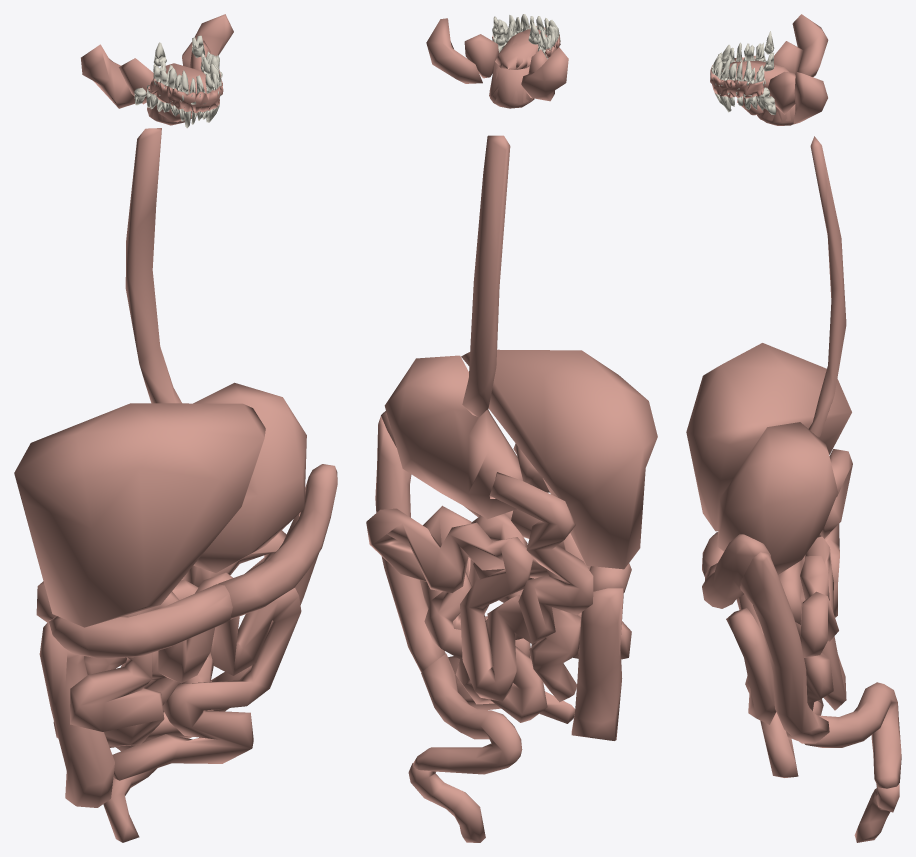
Rendered from pediatric_adolescent_male.digestive.LOD3.glb.
The picture shows the model from 3 angles, left to right: view 1: azimuth 30°, elevation 25°; view 2: azimuth 150°, elevation 25°; view 3: azimuth 270°, elevation 25°; orthographic projection. The views are drawn at different scales.
Parts seen in each view (by area): view 1: PEDIATRIC.ADOLESCENT.MALE.DIGESTIVE.LIVER, PEDIATRIC.ADOLESCENT.MALE.DIGESTIVE.SMALL_INTESTINE_WALL, PEDIATRIC.ADOLESCENT.MALE.DIGESTIVE.STOMACH_WALL, PEDIATRIC.ADOLESCENT.MALE.DIGESTIVE.OESOPHAGUS_WALL, PEDIATRIC.ADOLESCENT.MALE.DIGESTIVE.TRANSVERSE_COLON_WALL.R, PEDIATRIC.ADOLESCENT.MALE.DIGESTIVE.ASCENDING_COLON_WALL, PEDIATRIC.ADOLESCENT.MALE.DIGESTIVE.TRANSVERSE_COLON_WALL.L, PEDIATRIC.ADOLESCENT.MALE.DIGESTIVE.SALIVARY_GLANDS.R, PEDIATRIC.ADOLESCENT.MALE.DIGESTIVE.PERMANENT_CEMENTUM, PEDIATRIC.ADOLESCENT.MALE.DIGESTIVE.RECTUM_WALL, PEDIATRIC.ADOLESCENT.MALE.DIGESTIVE.SALIVARY_GLANDS.L, PEDIATRIC.ADOLESCENT.MALE.DIGESTIVE.ORAL_MUCOSA_LIP_AND_CHEE (+1 smaller); view 2: PEDIATRIC.ADOLESCENT.MALE.DIGESTIVE.SMALL_INTESTINE_WALL, PEDIATRIC.ADOLESCENT.MALE.DIGESTIVE.LIVER, PEDIATRIC.ADOLESCENT.MALE.DIGESTIVE.STOMACH_WALL, PEDIATRIC.ADOLESCENT.MALE.DIGESTIVE.OESOPHAGUS_WALL, PEDIATRIC.ADOLESCENT.MALE.DIGESTIVE.ASCENDING_COLON_WALL, PEDIATRIC.ADOLESCENT.MALE.DIGESTIVE.SIGMOID_COLON_WALL, PEDIATRIC.ADOLESCENT.MALE.DIGESTIVE.DESCENDING_COLON_WALL, PEDIATRIC.ADOLESCENT.MALE.DIGESTIVE.SALIVARY_GLANDS.L, PEDIATRIC.ADOLESCENT.MALE.DIGESTIVE.RECTUM_WALL, PEDIATRIC.ADOLESCENT.MALE.DIGESTIVE.SALIVARY_GLANDS.R, PEDIATRIC.ADOLESCENT.MALE.DIGESTIVE.TRANSVERSE_COLON_WALL.R, PEDIATRIC.ADOLESCENT.MALE.DIGESTIVE.TONGUE_LOWER (+3 smaller); view 3: PEDIATRIC.ADOLESCENT.MALE.DIGESTIVE.LIVER, PEDIATRIC.ADOLESCENT.MALE.DIGESTIVE.SMALL_INTESTINE_WALL, PEDIATRIC.ADOLESCENT.MALE.DIGESTIVE.STOMACH_WALL, PEDIATRIC.ADOLESCENT.MALE.DIGESTIVE.DESCENDING_COLON_WALL, PEDIATRIC.ADOLESCENT.MALE.DIGESTIVE.SIGMOID_COLON_WALL, PEDIATRIC.ADOLESCENT.MALE.DIGESTIVE.OESOPHAGUS_WALL, PEDIATRIC.ADOLESCENT.MALE.DIGESTIVE.TRANSVERSE_COLON_WALL.L, PEDIATRIC.ADOLESCENT.MALE.DIGESTIVE.SALIVARY_GLANDS.L, PEDIATRIC.ADOLESCENT.MALE.DIGESTIVE.SALIVARY_GLANDS.R, PEDIATRIC.ADOLESCENT.MALE.DIGESTIVE.PERMANENT_CEMENTUM, PEDIATRIC.ADOLESCENT.MALE.DIGESTIVE.RECTUM_WALL, PEDIATRIC.ADOLESCENT.MALE.DIGESTIVE.ORAL_MUCOSA_LIP_AND_CHEE (+1 smaller).
Part boxes in pixels (bbox=[...]): PEDIATRIC.ADOLESCENT.MALE.DIGESTIVE.LIVER: bbox=[14, 403, 265, 627]; PEDIATRIC.ADOLESCENT.MALE.DIGESTIVE.SMALL_INTESTINE_WALL: bbox=[36, 530, 301, 780]; PEDIATRIC.ADOLESCENT.MALE.DIGESTIVE.STOMACH_WALL: bbox=[193, 382, 306, 572]; PEDIATRIC.ADOLESCENT.MALE.DIGESTIVE.OESOPHAGUS_WALL: bbox=[125, 128, 181, 403]; PEDIATRIC.ADOLESCENT.MALE.DIGESTIVE.TRANSVERSE_COLON_WALL.R: bbox=[49, 584, 232, 658]; PEDIATRIC.ADOLESCENT.MALE.DIGESTIVE.ASCENDING_COLON_WALL: bbox=[39, 620, 114, 807]; PEDIATRIC.ADOLESCENT.MALE.DIGESTIVE.TRANSVERSE_COLON_WALL.L: bbox=[218, 464, 337, 619]; PEDIATRIC.ADOLESCENT.MALE.DIGESTIVE.SALIVARY_GLANDS.R: bbox=[81, 44, 180, 122]; PEDIATRIC.ADOLESCENT.MALE.DIGESTIVE.PERMANENT_CEMENTUM: bbox=[135, 35, 221, 127]; PEDIATRIC.ADOLESCENT.MALE.DIGESTIVE.RECTUM_WALL: bbox=[103, 768, 157, 842]; PEDIATRIC.ADOLESCENT.MALE.DIGESTIVE.SALIVARY_GLANDS.L: bbox=[182, 14, 233, 114]; PEDIATRIC.ADOLESCENT.MALE.DIGESTIVE.ORAL_MUCOSA_LIP_AND_CHEE: bbox=[147, 69, 223, 113]; PEDIATRIC.ADOLESCENT.MALE.DIGESTIVE.SMALL_INTESTINE_WALL: bbox=[366, 472, 631, 723]; PEDIATRIC.ADOLESCENT.MALE.DIGESTIVE.LIVER: bbox=[461, 349, 657, 569]; PEDIATRIC.ADOLESCENT.MALE.DIGESTIVE.STOMACH_WALL: bbox=[384, 355, 522, 519]; PEDIATRIC.ADOLESCENT.MALE.DIGESTIVE.OESOPHAGUS_WALL: bbox=[462, 135, 510, 417]; PEDIATRIC.ADOLESCENT.MALE.DIGESTIVE.ASCENDING_COLON_WALL: bbox=[571, 588, 623, 740]; PEDIATRIC.ADOLESCENT.MALE.DIGESTIVE.SIGMOID_COLON_WALL: bbox=[413, 653, 522, 774]; PEDIATRIC.ADOLESCENT.MALE.DIGESTIVE.DESCENDING_COLON_WALL: bbox=[375, 416, 445, 672]; PEDIATRIC.ADOLESCENT.MALE.DIGESTIVE.SALIVARY_GLANDS.L: bbox=[426, 18, 498, 83]; PEDIATRIC.ADOLESCENT.MALE.DIGESTIVE.RECTUM_WALL: bbox=[408, 763, 485, 842]; PEDIATRIC.ADOLESCENT.MALE.DIGESTIVE.SALIVARY_GLANDS.R: bbox=[521, 47, 568, 101]; PEDIATRIC.ADOLESCENT.MALE.DIGESTIVE.TRANSVERSE_COLON_WALL.R: bbox=[511, 509, 631, 592]; PEDIATRIC.ADOLESCENT.MALE.DIGESTIVE.TONGUE_LOWER: bbox=[489, 62, 534, 108]; PEDIATRIC.ADOLESCENT.MALE.DIGESTIVE.LIVER: bbox=[686, 343, 851, 531]; PEDIATRIC.ADOLESCENT.MALE.DIGESTIVE.SMALL_INTESTINE_WALL: bbox=[726, 449, 852, 777]; PEDIATRIC.ADOLESCENT.MALE.DIGESTIVE.STOMACH_WALL: bbox=[717, 422, 837, 574]; PEDIATRIC.ADOLESCENT.MALE.DIGESTIVE.DESCENDING_COLON_WALL: bbox=[740, 552, 829, 743]; PEDIATRIC.ADOLESCENT.MALE.DIGESTIVE.SIGMOID_COLON_WALL: bbox=[804, 682, 901, 788]; PEDIATRIC.ADOLESCENT.MALE.DIGESTIVE.OESOPHAGUS_WALL: bbox=[808, 136, 846, 437]; PEDIATRIC.ADOLESCENT.MALE.DIGESTIVE.TRANSVERSE_COLON_WALL.L: bbox=[702, 534, 771, 608]; PEDIATRIC.ADOLESCENT.MALE.DIGESTIVE.SALIVARY_GLANDS.L: bbox=[737, 71, 827, 124]; PEDIATRIC.ADOLESCENT.MALE.DIGESTIVE.SALIVARY_GLANDS.R: bbox=[774, 14, 828, 76]; PEDIATRIC.ADOLESCENT.MALE.DIGESTIVE.PERMANENT_CEMENTUM: bbox=[712, 31, 776, 114]; PEDIATRIC.ADOLESCENT.MALE.DIGESTIVE.RECTUM_WALL: bbox=[854, 784, 899, 842]; PEDIATRIC.ADOLESCENT.MALE.DIGESTIVE.ORAL_MUCOSA_LIP_AND_CHEE: bbox=[710, 55, 764, 98].
Bounding box in the file's own units: 0.2755 × 0.7319 × 0.1782.
